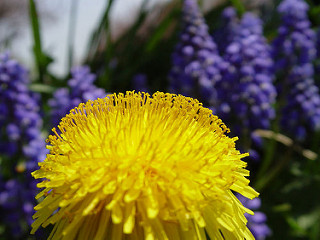dandelion: (21, 81, 263, 240)
